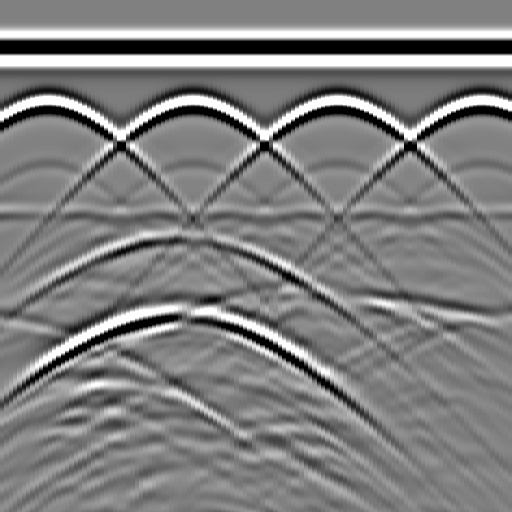grout_surface: (1, 199, 512, 229)
rebar: (26, 84, 66, 124), (170, 84, 210, 124), (315, 84, 355, 124), (459, 84, 499, 124)
rock_surface: (1, 288, 511, 385)
water_void: (147, 212, 207, 252)
